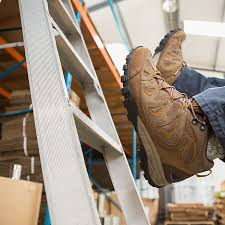Shoes: (121, 39, 217, 191)
